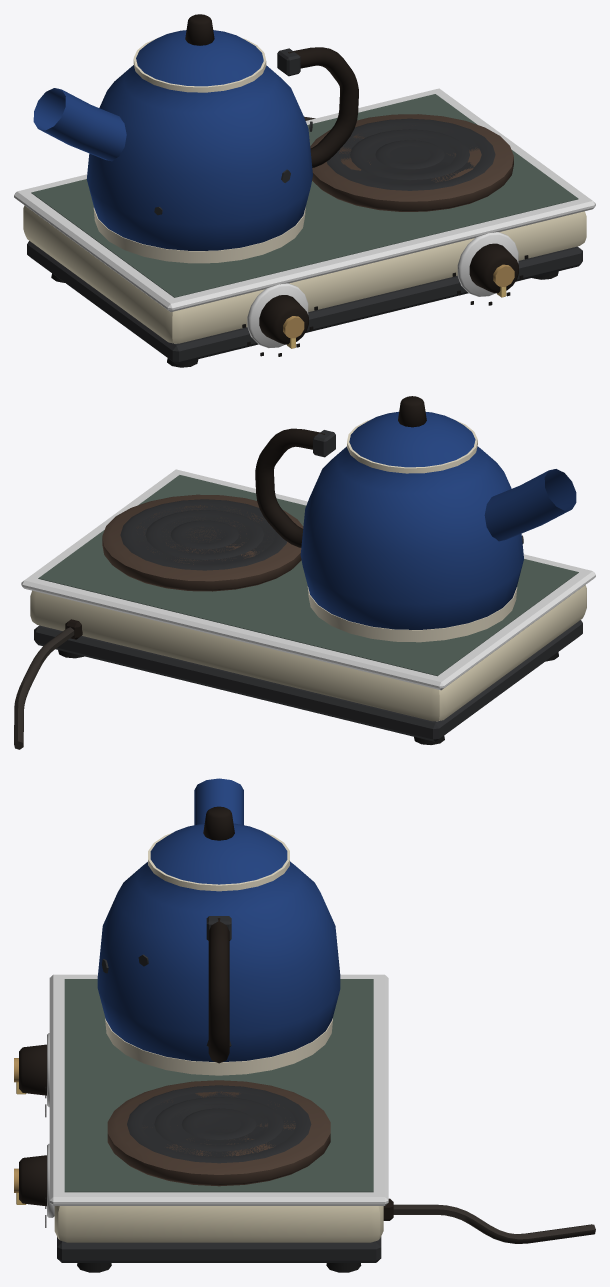
The model's file is kettle_hotplate.glb.
3 renders of one model, top to bottom at view 1: azimuth 30°, elevation 25°; view 2: azimuth 150°, elevation 25°; view 3: azimuth 270°, elevation 25°, orthographic. The views are drawn at different scales.
Parts seen in each view (by area): view 1: hotplate_body, IA_kettle, IA_knob_right, IA_knob_left; view 2: hotplate_body, IA_kettle; view 3: hotplate_body, IA_kettle, IA_knob_left, IA_knob_right.
Part boxes in pixels (x1=…): hotplate_body: x1=14, y1=88, x2=595, y2=367; IA_kettle: x1=33, y1=14, x2=358, y2=263; IA_knob_right: x1=469, y1=243, x2=518, y2=297; IA_knob_left: x1=259, y1=295, x2=308, y2=348; hotplate_body: x1=14, y1=469, x2=595, y2=749; IA_kettle: x1=255, y1=396, x2=576, y2=642; hotplate_body: x1=45, y1=974, x2=595, y2=1272; IA_kettle: x1=97, y1=778, x2=340, y2=1075; IA_knob_left: x1=14, y1=1044, x2=46, y2=1095; IA_knob_right: x1=14, y1=1155, x2=46, y2=1206.
Size of the model in its own units: 0.4808 by 0.2699 by 0.4667.
